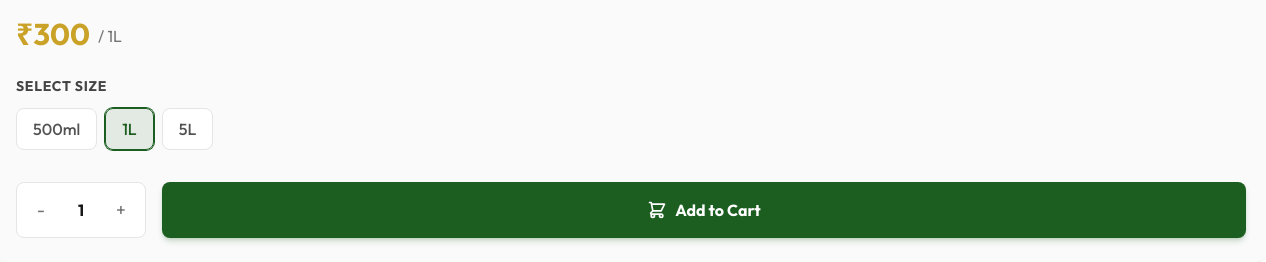
AddToCartSection Component UI Tests › should increment and decrement quantity when clicking + and - buttons
# Click plus twice (quantity becomes 3)
What coordinates should you click on to do the following:
click the button "+"
I would click on:
 (121, 210)
Its box is top-left (97, 183), bottom-right (145, 237).
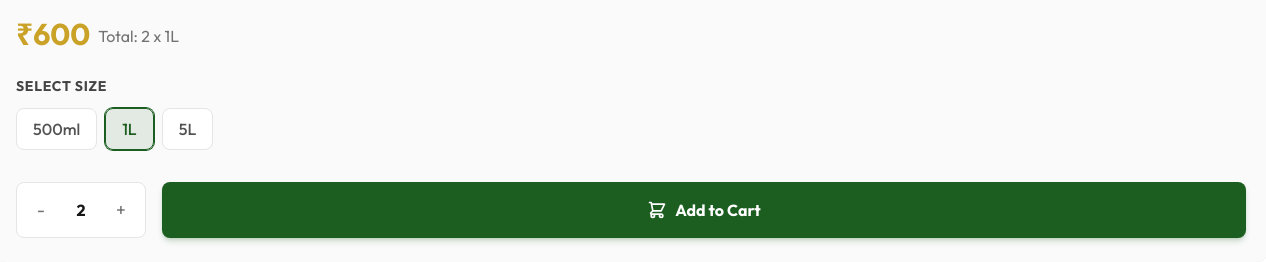
What coordinates should you click on to do the following:
click the button "+"
I would click on:
 (121, 210)
Its box is top-left (97, 183), bottom-right (145, 237).
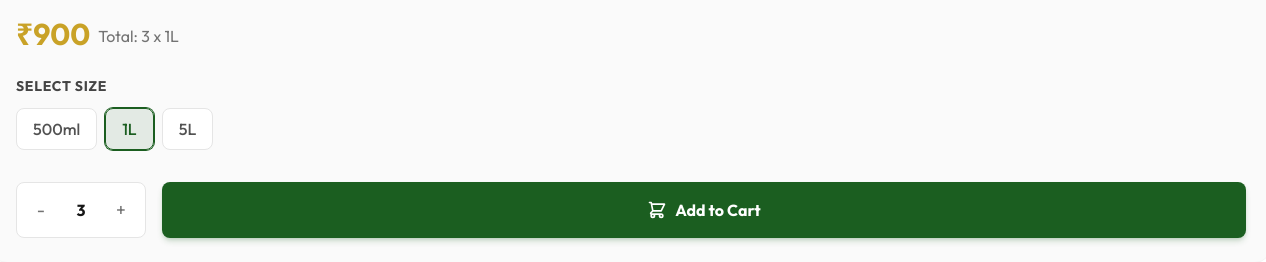
Expected: the text "3" is shown, top-left (76, 200), bottom-right (86, 220)
Expected: the text "₹900" is shown, top-left (16, 16), bottom-right (90, 52)
# Click minus once (quantity becomes 2)
What coordinates should you click on to do the following:
click the button "-"
I would click on:
 (41, 210)
Its box is top-left (17, 183), bottom-right (65, 237).
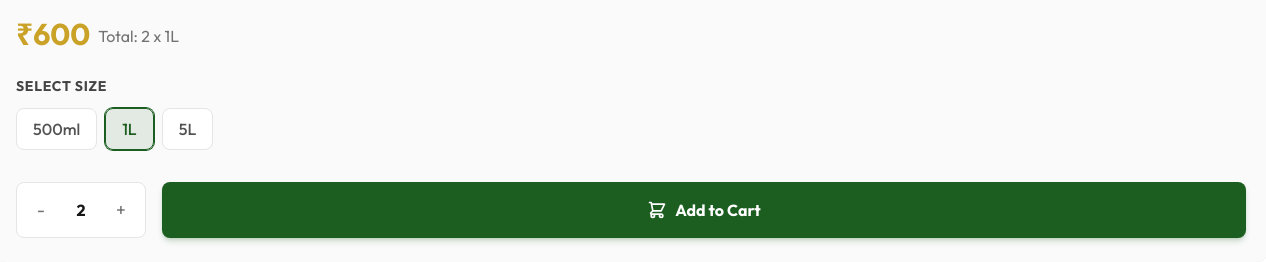
Expected: the text "2" is shown, top-left (76, 200), bottom-right (86, 220)
Expected: the text "₹600" is shown, top-left (16, 16), bottom-right (90, 52)
